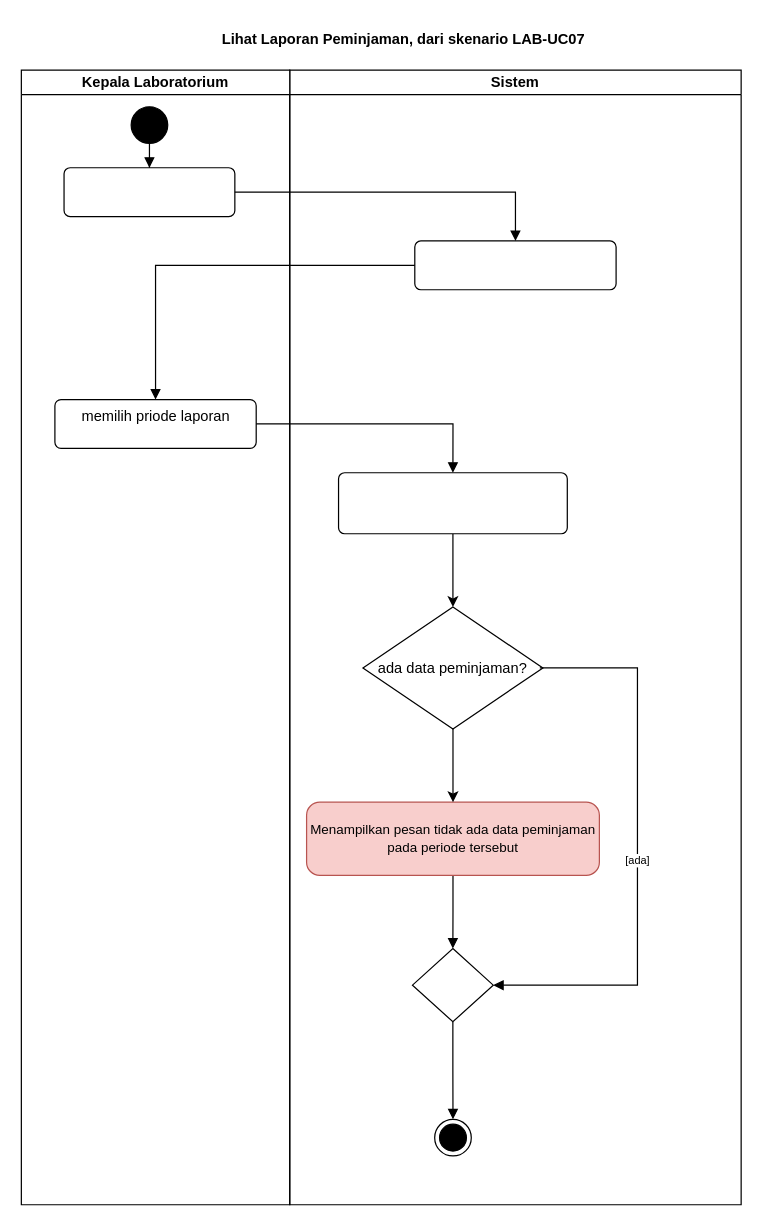
The diagram is 763 pixels wide and 1226 high, and some of its shapes have lost their labels. Each missing label, with the centre of its shape:
"Membukan fungsi lihat laporan peminjaman" goes at pixel 149 192.
"menampilkan daftar priode laporan" goes at pixel 515 265.
"menampilkan laporan peminjaman priode yang dipilih" goes at pixel 452 503.
